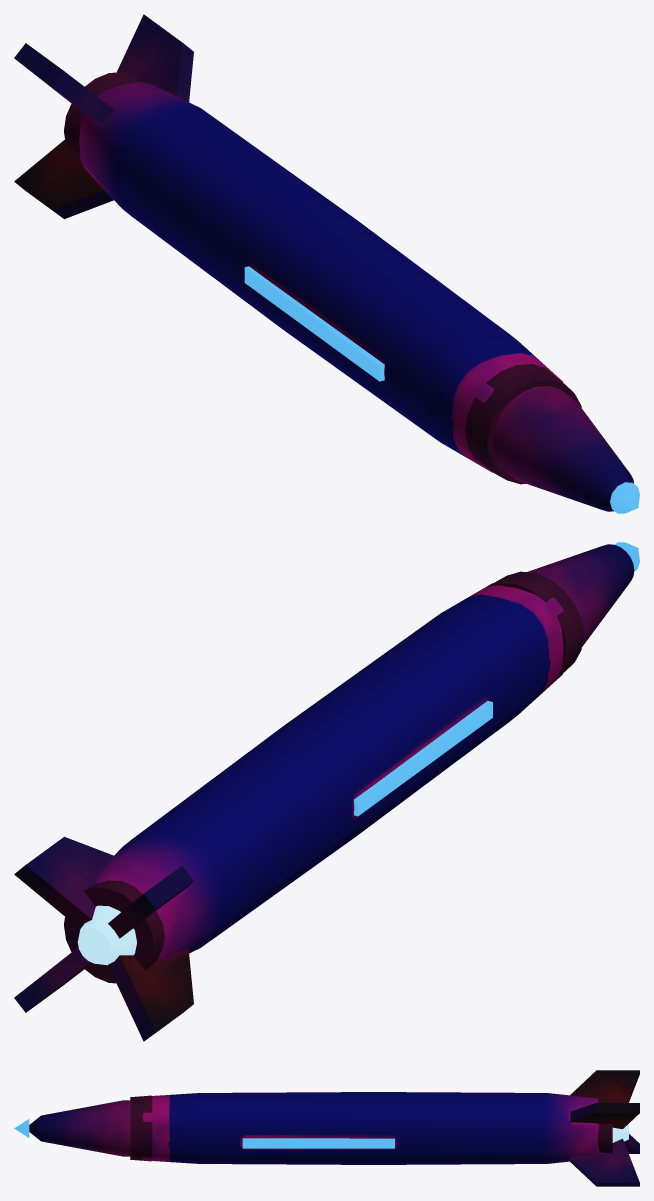
The model's file is torpedo.glb.
3 renders of one model, top to bottom at view 1: azimuth 30°, elevation 25°; view 2: azimuth 150°, elevation 25°; view 3: azimuth 270°, elevation 25°, orthographic. The views are drawn at different scales.
Visible parts, largest first — view 1: torpedo; view 2: torpedo; view 3: torpedo.
Boxes of the visible parts, box(x1,y1,x2,y2) form: torpedo: box(14, 14, 639, 513); torpedo: box(14, 542, 639, 1041); torpedo: box(14, 1070, 639, 1186).
Bounding box in the file's own units: 0.8485 × 0.8485 × 5.75.
6 materials, 4 textured.
